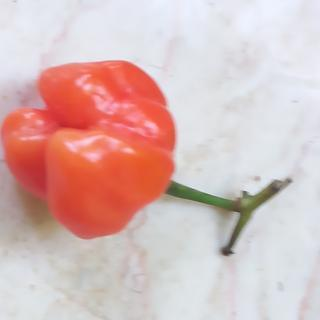Grade-B: (0, 52, 179, 241)
